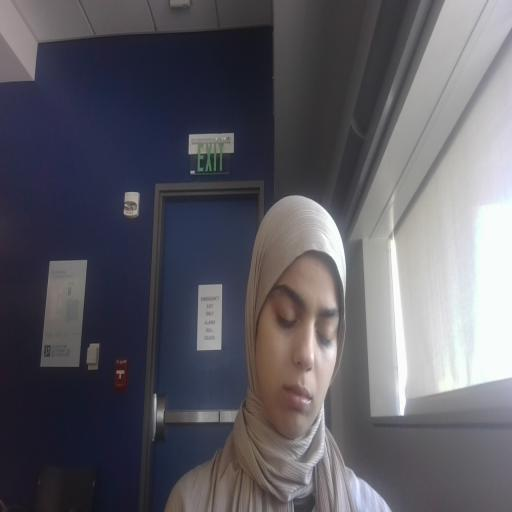lookingdownatphone: (166, 196, 388, 511)
